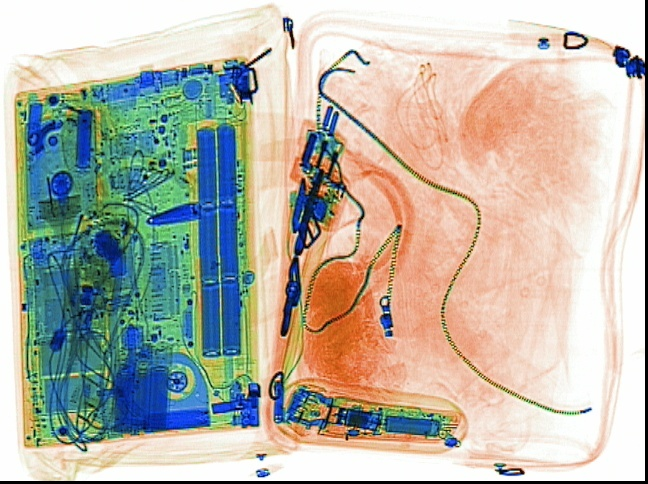powerbank: (105, 341, 176, 437)
